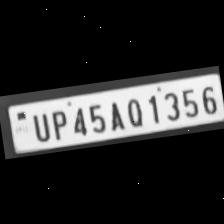1: (142, 90, 162, 124)
3: (160, 87, 181, 121)
4: (66, 102, 88, 136)
5: (84, 100, 107, 134), (177, 85, 200, 118)
6: (197, 82, 221, 115)
A: (104, 96, 125, 131)
P: (46, 106, 70, 139)
Q: (122, 93, 146, 127)
U: (27, 109, 51, 142)
